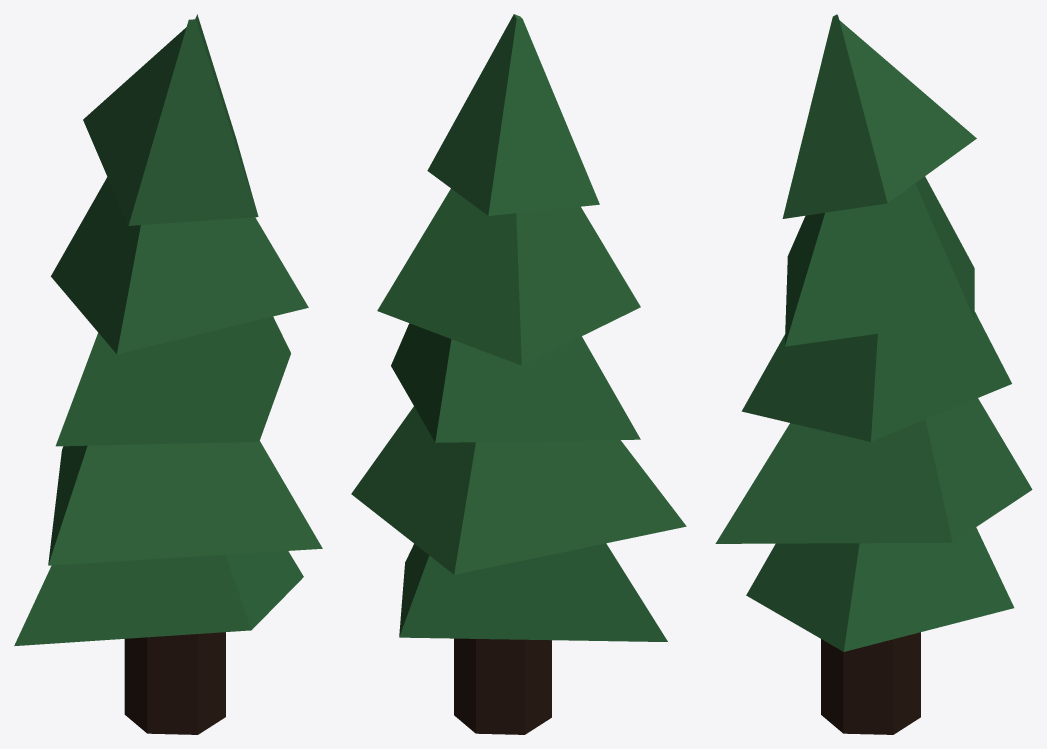
Rendered from tree.fbx.
3 views of the same model, side by side, from view 1: azimuth 30°, elevation 25°; view 2: azimuth 150°, elevation 25°; view 3: azimuth 270°, elevation 25° (orthographic). The views are drawn at different scales.
Visible parts, largest first — view 1: tree; view 2: tree; view 3: tree.
Boxes of the visible parts, x1,y1,x2,y2 form: tree: [14, 14, 322, 734]; tree: [351, 14, 686, 734]; tree: [715, 14, 1032, 734].
Bounding box in the file's own units: 213 × 514 × 210.
